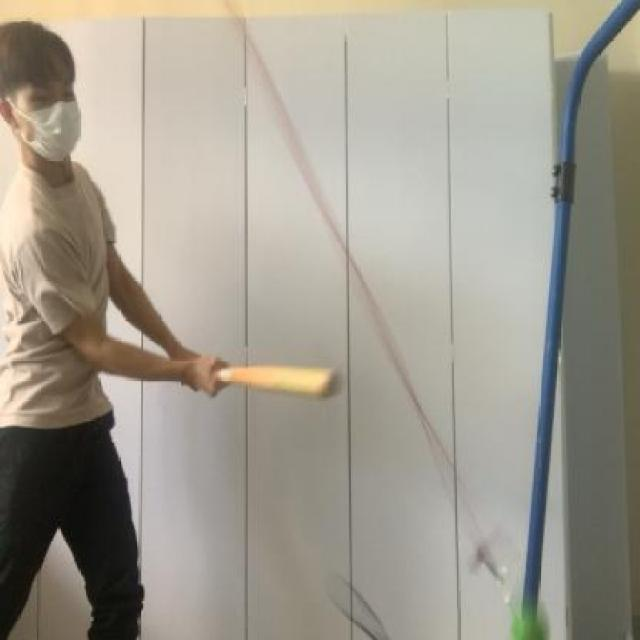baseball: (488, 583, 557, 640)
